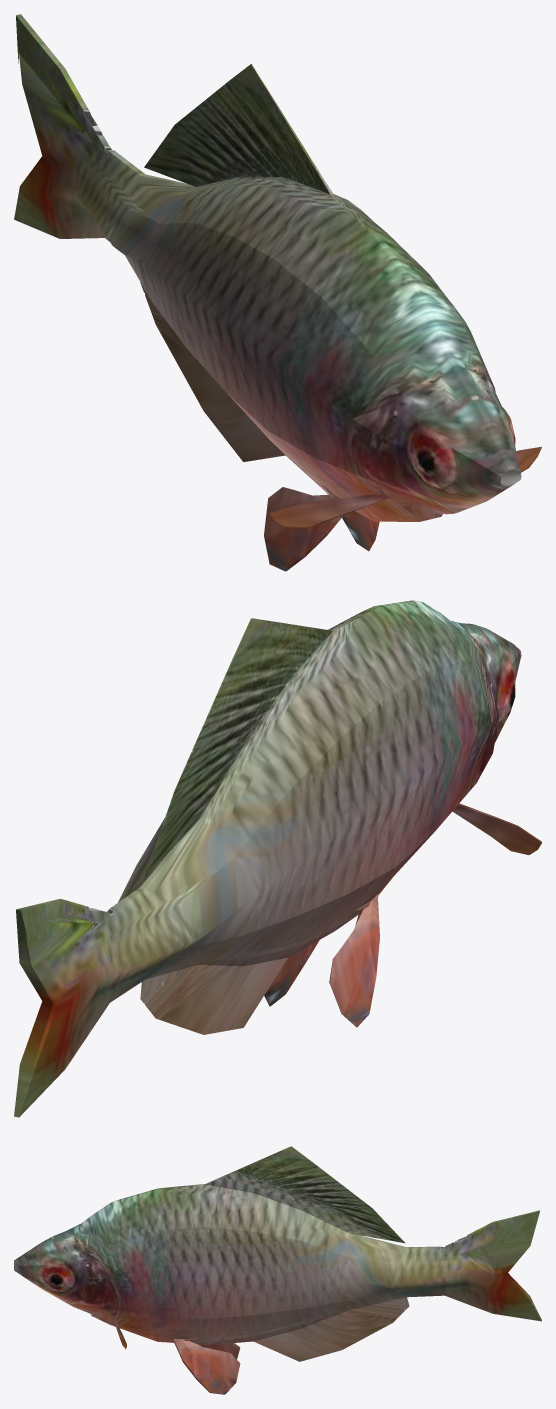
Rendered from nihonbaratanago(kurumeusu)_model.fbx.
3 views of the same model, one above another, from view 1: azimuth 30°, elevation 25°; view 2: azimuth 150°, elevation 25°; view 3: azimuth 270°, elevation 25° (orthographic). The views are drawn at different scales.
Parts seen in each view (by area): view 1: pCube1; view 2: pCube1; view 3: pCube1.
Boxes of the visible parts, x1,y1,x2,y2 form: pCube1: [14, 14, 541, 571]; pCube1: [14, 600, 541, 1117]; pCube1: [14, 1146, 541, 1394].
Bounding box in the file's own units: 2.29 × 3.55 × 7.17.
